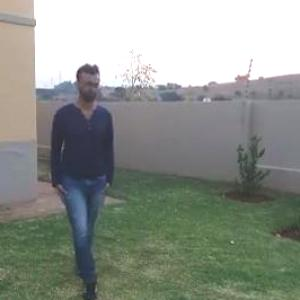follow: (48, 53, 136, 299)
